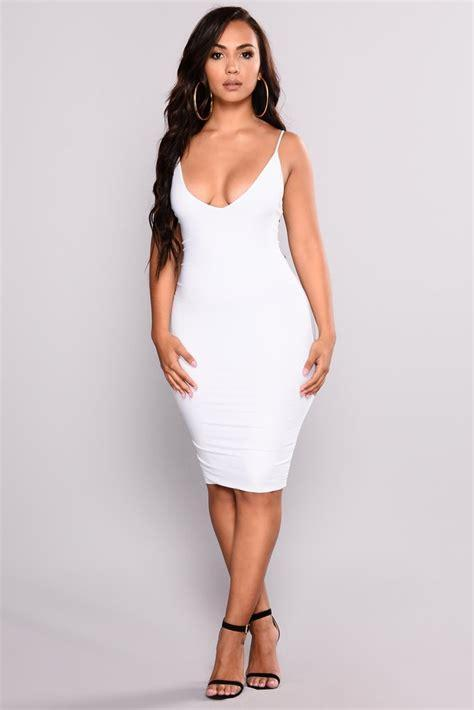dress: (164, 129, 320, 495)
